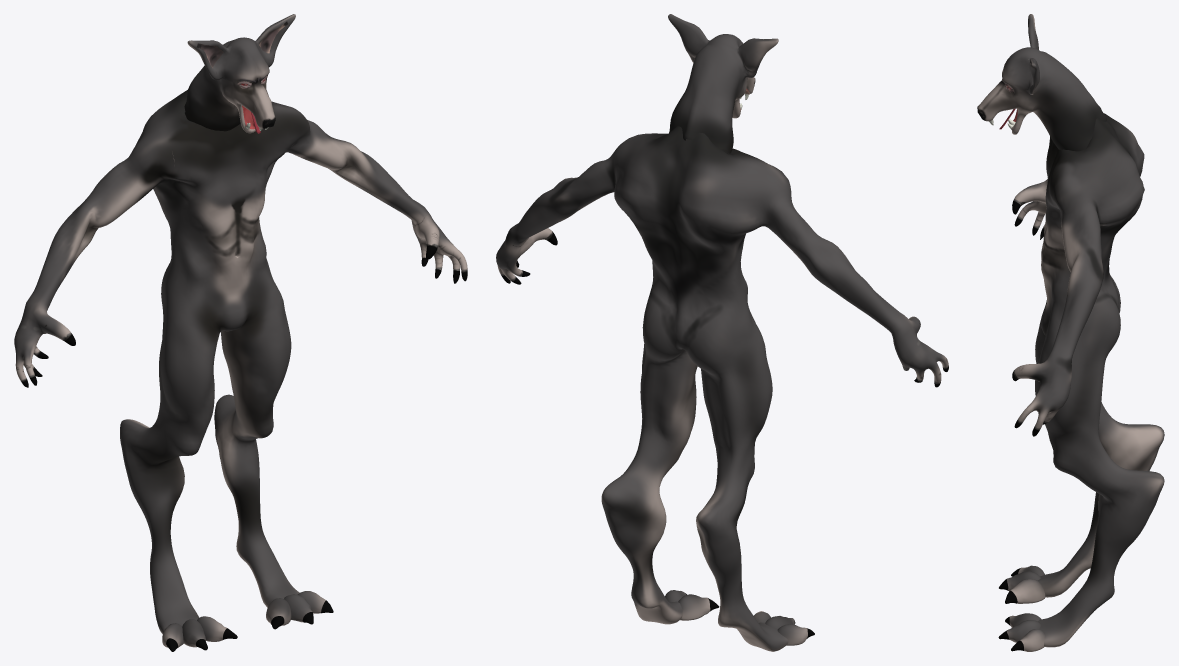
The model's file is Vampiro con textura.fbx.
3 renders of one model, left to right at view 1: azimuth 30°, elevation 25°; view 2: azimuth 150°, elevation 25°; view 3: azimuth 270°, elevation 25°, orthographic. The views are drawn at different scales.
Visible parts, largest first — view 1: texturizado:defaultobject_defaultobject; view 2: texturizado:defaultobject_defaultobject; view 3: texturizado:defaultobject_defaultobject.
Part boxes in pixels (x1,y1,x2,y2): texturizado:defaultobject_defaultobject: (14, 14, 467, 651); texturizado:defaultobject_defaultobject: (496, 14, 948, 651); texturizado:defaultobject_defaultobject: (977, 14, 1164, 651).
Size of the model in its own units: 15.99 by 20.72 by 6.09.
